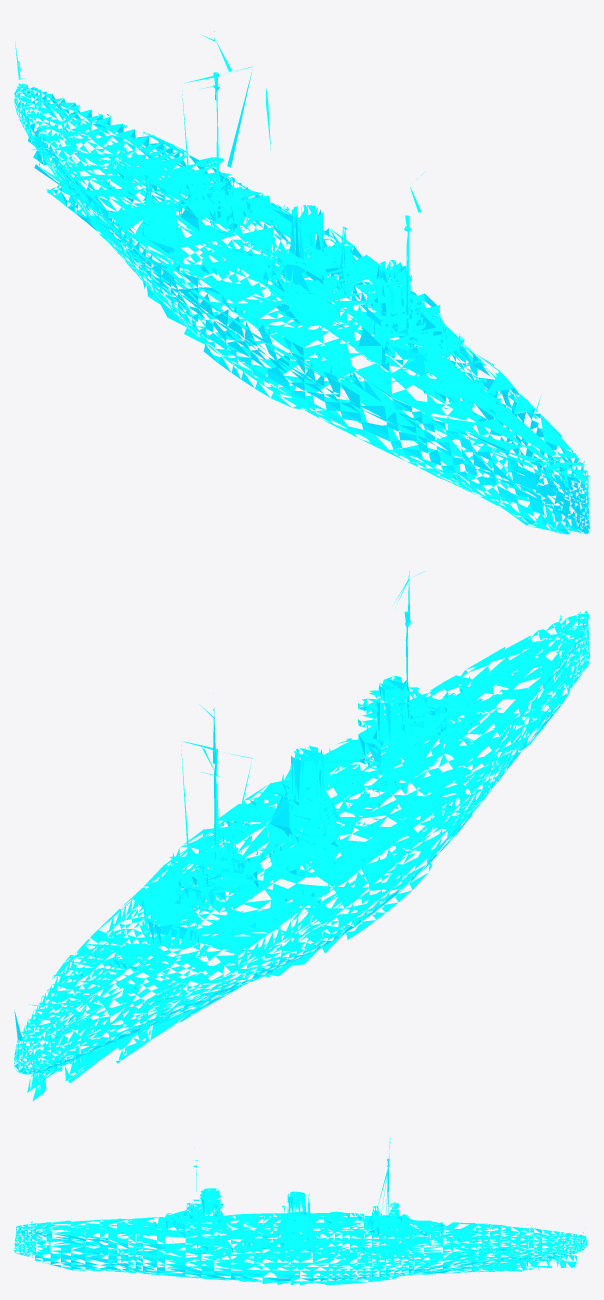
File: Moltke.glb
The picture shows the model from 3 angles, top to bottom: view 1: azimuth 30°, elevation 25°; view 2: azimuth 150°, elevation 25°; view 3: azimuth 270°, elevation 25°; orthographic projection. The views are drawn at different scales.
Bounding box in the file's own units: 2.04 × 3.35 × 12.48.
